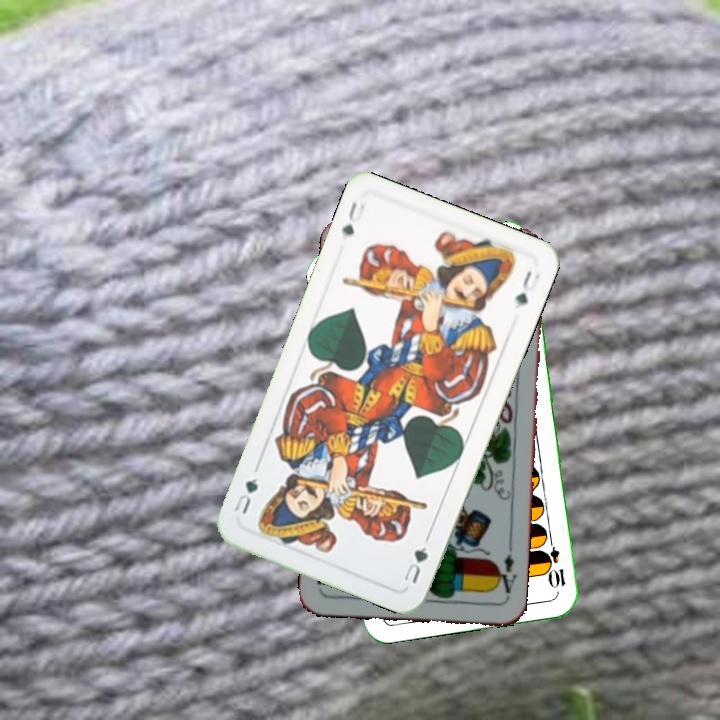E10: (540, 533, 568, 592)
EA: (492, 542, 520, 601)
GU: (399, 542, 431, 586), (337, 197, 368, 239)
